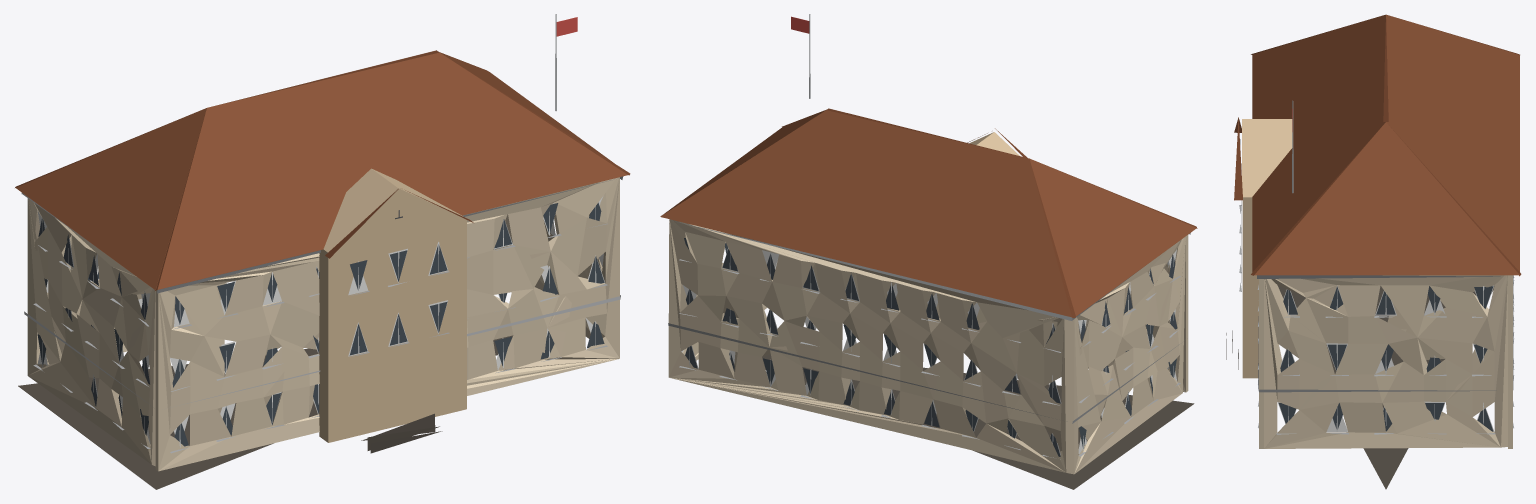
Rendered from town-hall-lod1.glb.
3 renders of one model, left to right at view 1: azimuth 30°, elevation 25°; view 2: azimuth 150°, elevation 25°; view 3: azimuth 270°, elevation 25°, orthographic. The views are drawn at different scales.
Parts seen in each view (by area): view 1: town-hall-plaster0.001; view 2: town-hall-plaster0.001; view 3: town-hall-plaster0.001.
Boxes of the visible parts, bbox=[...] form: town-hall-plaster0.001: bbox=[15, 14, 630, 489]; town-hall-plaster0.001: bbox=[660, 14, 1197, 489]; town-hall-plaster0.001: bbox=[1226, 14, 1521, 489].
Size of the model in its own units: 34.35 by 22.37 by 17.41.
